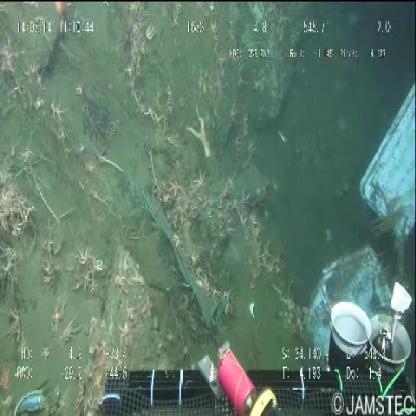Rov: (84, 274, 416, 416)
Rác: (298, 60, 416, 307)
